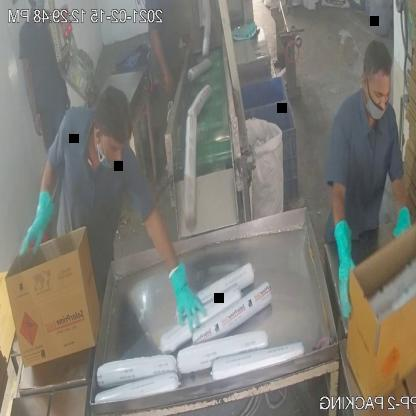glove: (16, 178, 59, 267), (325, 206, 356, 328), (166, 254, 206, 340)
no_glove: (14, 51, 43, 141), (150, 19, 175, 96)
